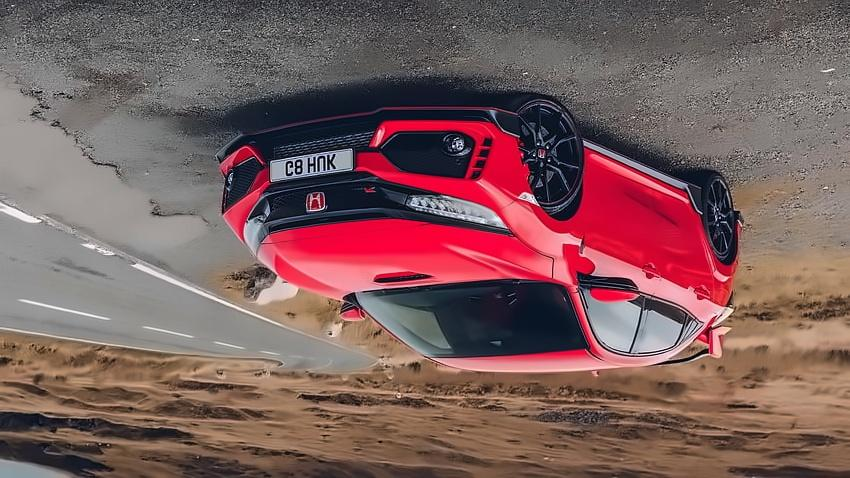Car hood: (254, 216, 561, 300)
Driver-s door - -F-R-: (565, 127, 670, 378)
Fender - -F-R-: (498, 178, 587, 290)
Fender - -R-R-: (685, 198, 750, 323)
Front bumper: (212, 108, 534, 217)
Headlight - -L-: (242, 194, 276, 263)
Headlight - -R-: (405, 189, 515, 236)
Passenger-s door - -R-R-: (620, 154, 715, 377)
Side bumper - -R-: (582, 136, 705, 236)
Side mirror - -R-: (575, 266, 639, 303)
